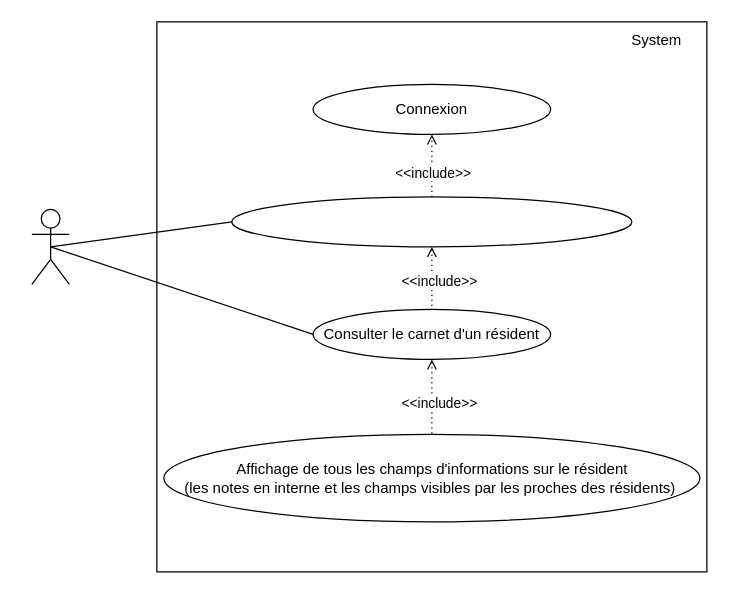
Some shapes in this 729 by 594 pixel diagram are drawn without their labels. Each missing label, with the centre of its shape:
"Accéder à la liste des résident de la maison de retraite" belongs at (431,221).
"Employé" belongs at (50,246).
